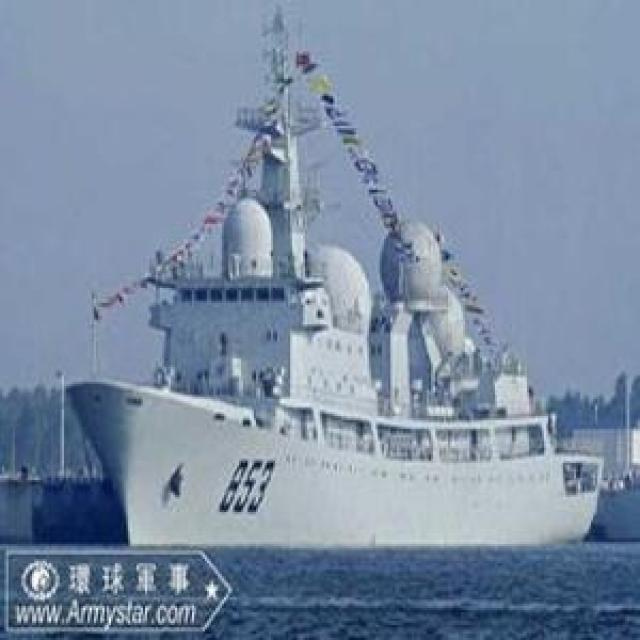navalvessels: (64, 4, 625, 556)
